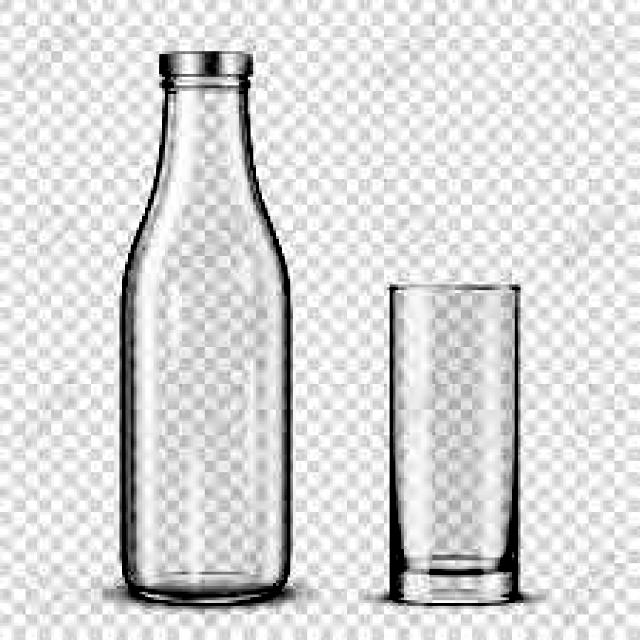Glass: (118, 47, 296, 613), (387, 279, 523, 604)
